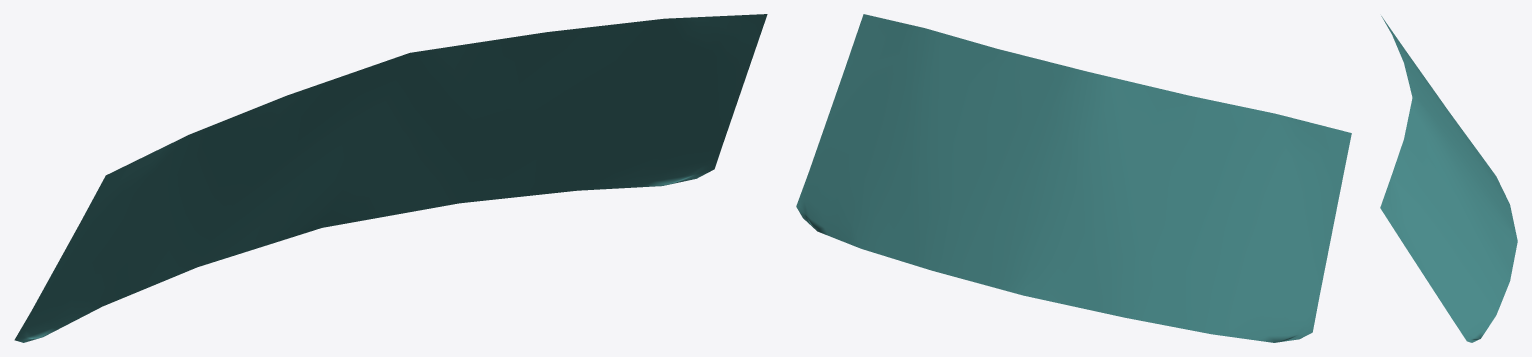
File: Classic_2_Glass_R_Tesselated.fbx
3 views of the same model, side by side, from view 1: azimuth 30°, elevation 25°; view 2: azimuth 150°, elevation 25°; view 3: azimuth 270°, elevation 25° (orthographic). The views are drawn at different scales.
Visible parts, largest first — view 1: Classic_2_Glass_R_Tesselated; view 2: Classic_2_Glass_R_Tesselated; view 3: Classic_2_Glass_R_Tesselated.
Part boxes in pixels (x1=…): Classic_2_Glass_R_Tesselated: x1=14, y1=14, x2=767, y2=342; Classic_2_Glass_R_Tesselated: x1=796, y1=14, x2=1351, y2=342; Classic_2_Glass_R_Tesselated: x1=1380, y1=16, x2=1517, y2=342.
Size of the model in its own units: 200 by 68.48 by 56.78.
